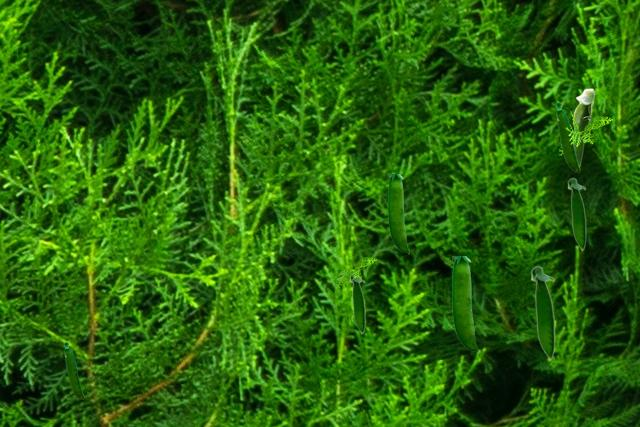pea: (452, 256, 477, 352), (530, 265, 554, 361), (572, 88, 594, 167), (556, 101, 579, 171), (388, 174, 408, 253), (567, 177, 585, 251), (64, 341, 83, 398), (349, 277, 364, 334)
